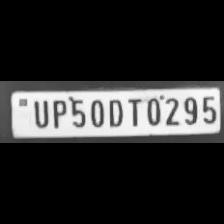0: (87, 96, 105, 128), (143, 94, 161, 125)
2: (162, 95, 180, 127)
5: (66, 96, 86, 128), (200, 93, 218, 125)
9: (181, 94, 199, 124)
D: (105, 96, 124, 128)
P: (48, 97, 66, 129)
T: (125, 96, 143, 127)
U: (29, 97, 49, 128)
